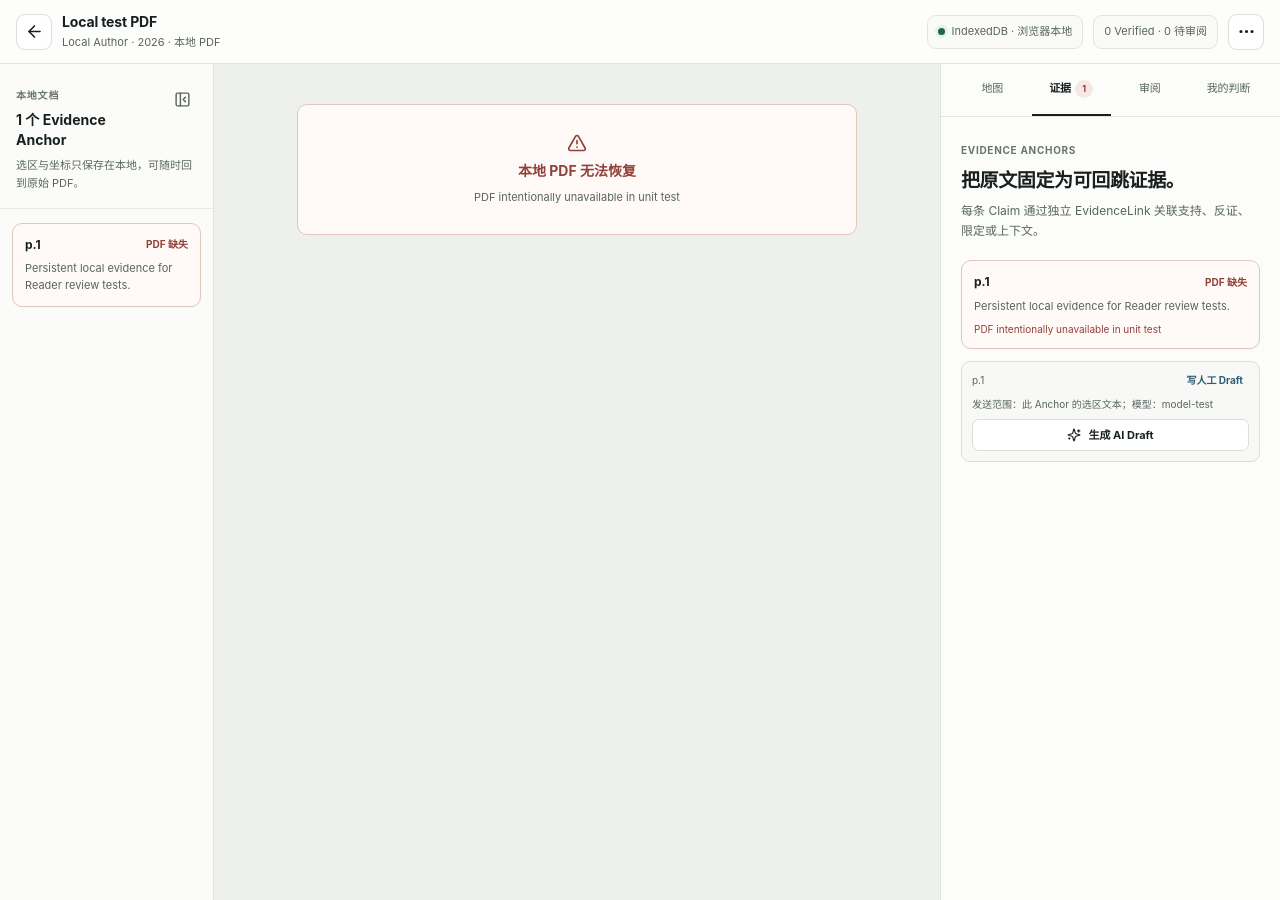
Test: Reader persisted review UI › exposes structured judgment and real document actions without legacy integrations
The image size is (1280, 900).
Click the tab "我的判断". click: (1229,90)
box: [1189,64,1268,116]
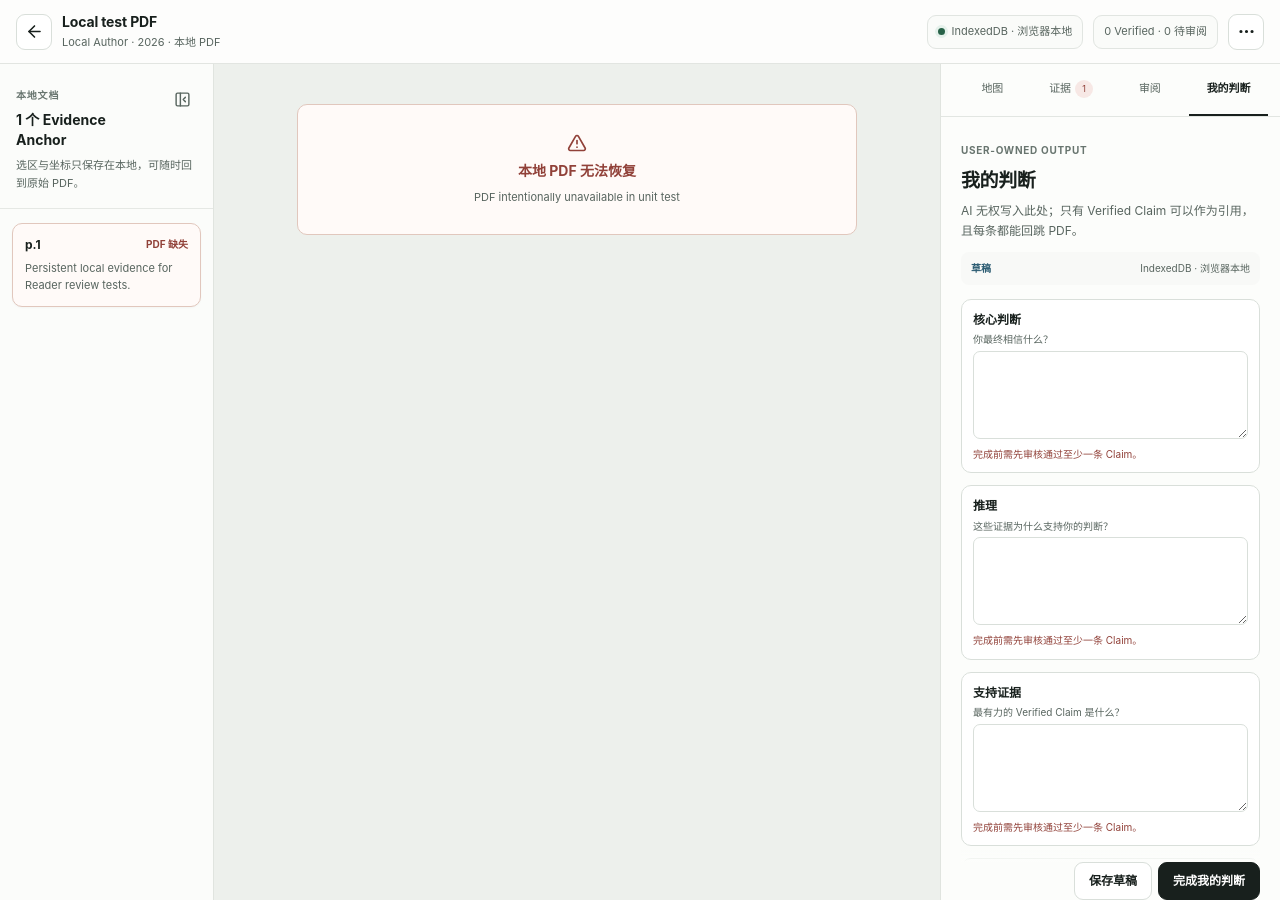
Result: the heading "我的判断" is shown at [961,169,1036,192]
Result: the text "核心判断" is shown at [973,312,1021,327]
Click the button named "更多文档操作". click: (1246,32)
box: [1228,14,1264,50]
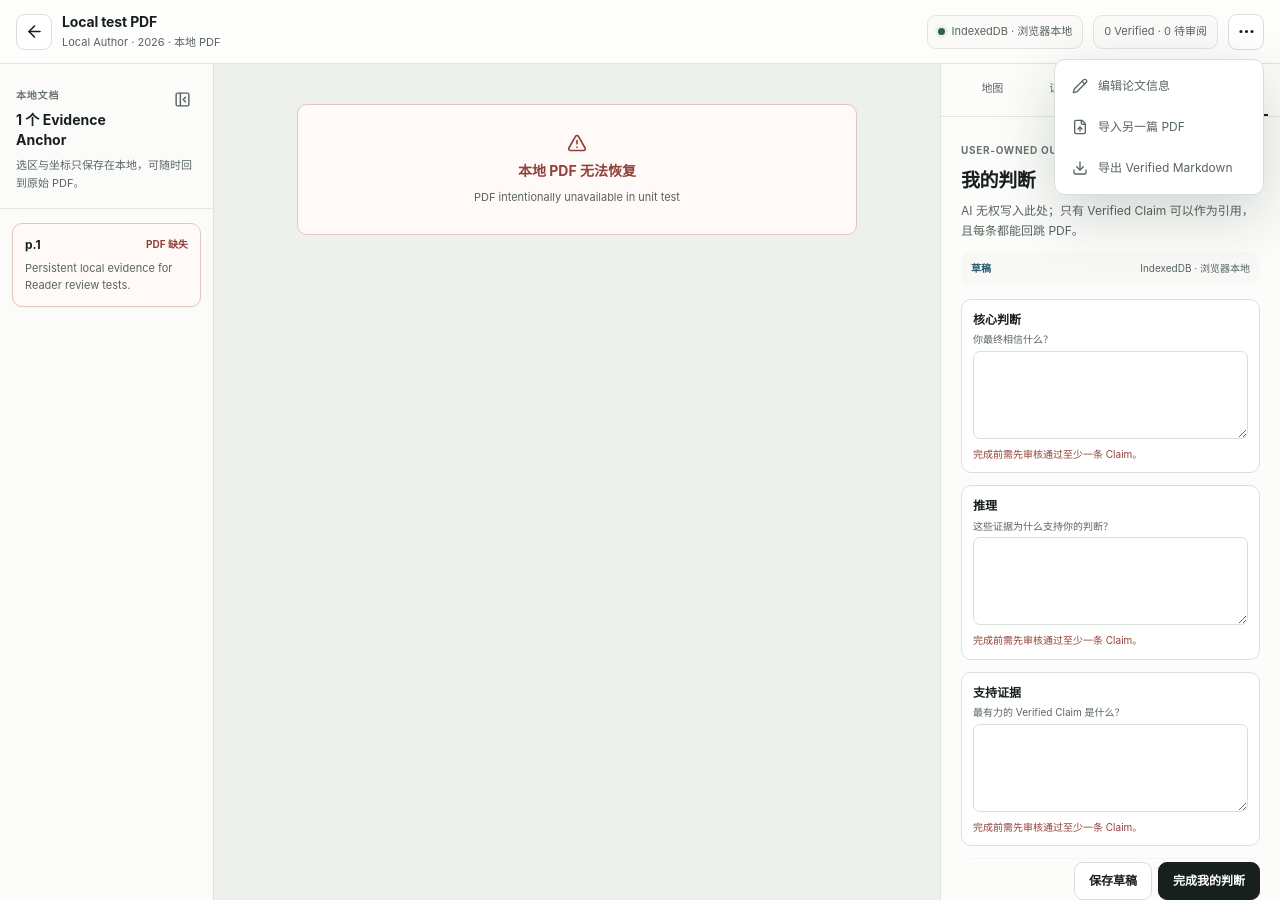
Result: the menu item "导入另一篇 PDF" is shown at [1062,108,1256,146]
Result: the menu item "导出 Verified Markdown" is shown at [1062,148,1256,186]
